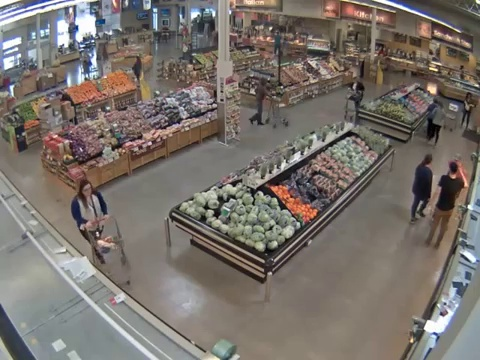face: (81, 184, 91, 196)
